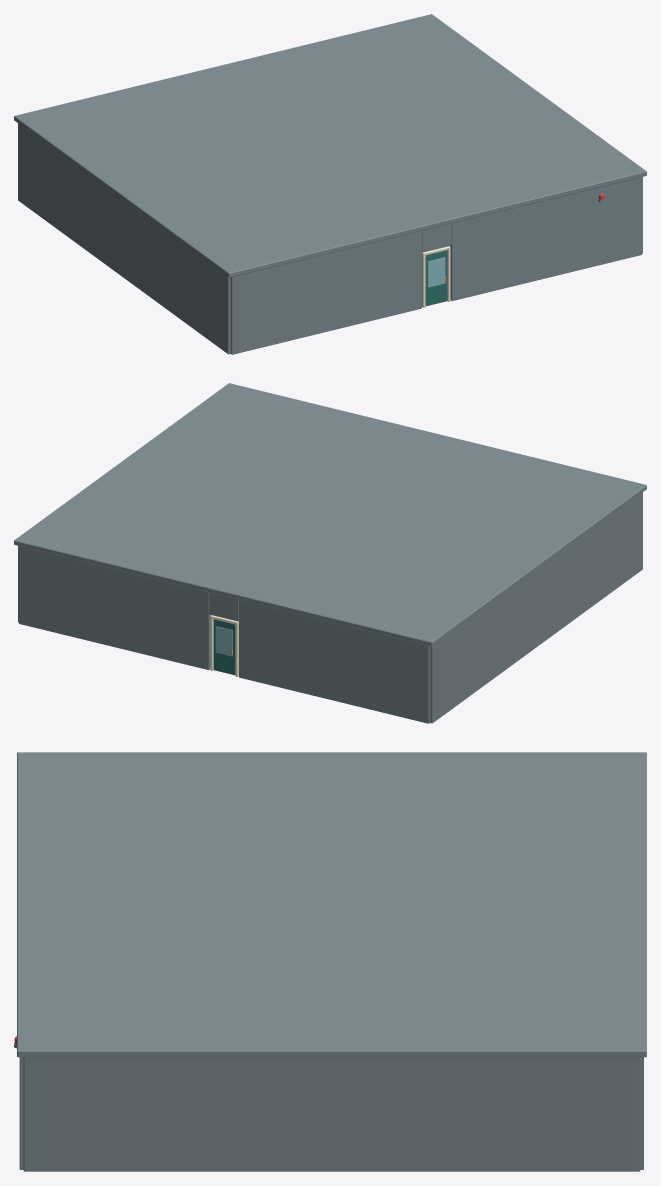
Rendered from Interior_UndergroundParking.fbx.
3 renders of one model, top to bottom at view 1: azimuth 30°, elevation 25°; view 2: azimuth 150°, elevation 25°; view 3: azimuth 270°, elevation 25°, orthographic. The views are drawn at different scales.
Visible parts, largest first — view 1: Roof_Removable.007, WallLeft.007, WallSegment.028, WallSegment.029, Entrance_Door.008, DoorHeader.014; view 2: Roof_Removable.007, WallLeft.007, WallSegment.030, WallSegment.031, RearExit_Door.008, DoorHeader.015; view 3: Roof_Removable.007, WallRight.007.
Boxes of the visible parts, bbox=[...] form: Roof_Removable.007: bbox=[14, 14, 646, 277]; WallLeft.007: bbox=[18, 123, 230, 354]; WallSegment.028: bbox=[230, 230, 421, 354]; WallSegment.029: bbox=[450, 177, 641, 300]; Entrance_Door.008: bbox=[425, 250, 447, 306]; DoorHeader.014: bbox=[422, 223, 451, 252]; Roof_Removable.007: bbox=[14, 383, 646, 646]; WallLeft.007: bbox=[430, 492, 642, 723]; WallSegment.030: bbox=[239, 599, 430, 723]; WallSegment.031: bbox=[19, 546, 210, 669]; RearExit_Door.008: bbox=[213, 619, 235, 675]; DoorHeader.015: bbox=[209, 592, 238, 621]; Roof_Removable.007: bbox=[17, 752, 646, 1057]; WallRight.007: bbox=[23, 1057, 640, 1171].
Bounding box in the file's own units: 18.35 × 3.5 × 16.43.
